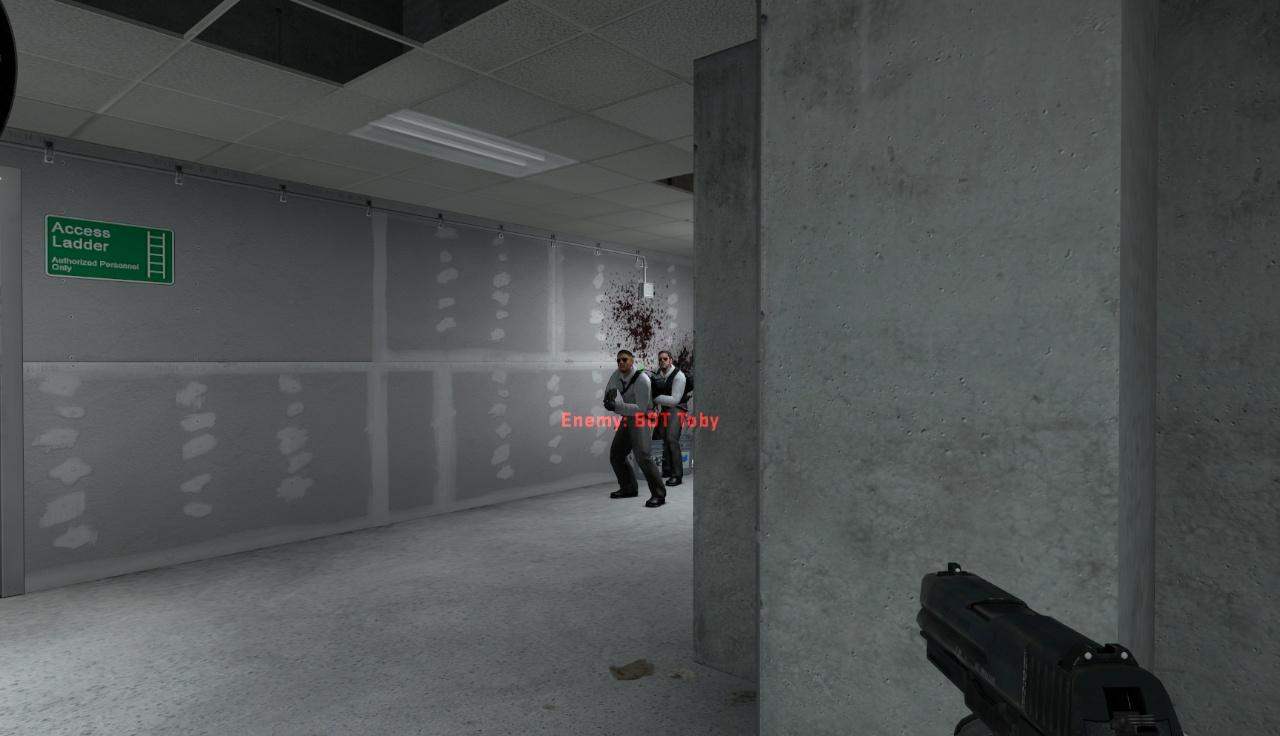pistol: (910, 563, 1187, 736)
tt: (605, 348, 656, 504), (657, 352, 685, 482)
tthead: (617, 350, 633, 375), (657, 352, 672, 371)
